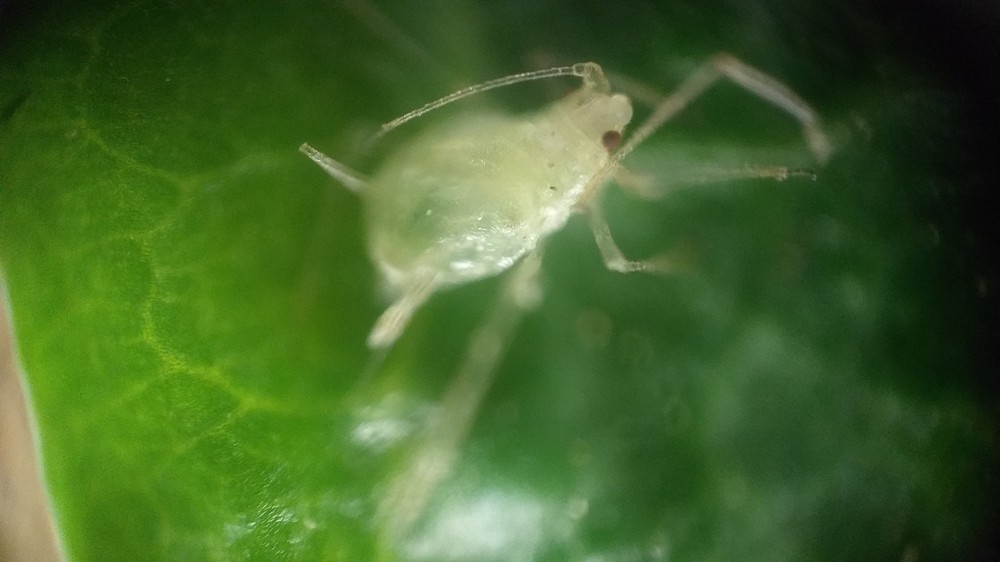Pulgon: (285, 21, 864, 388)
